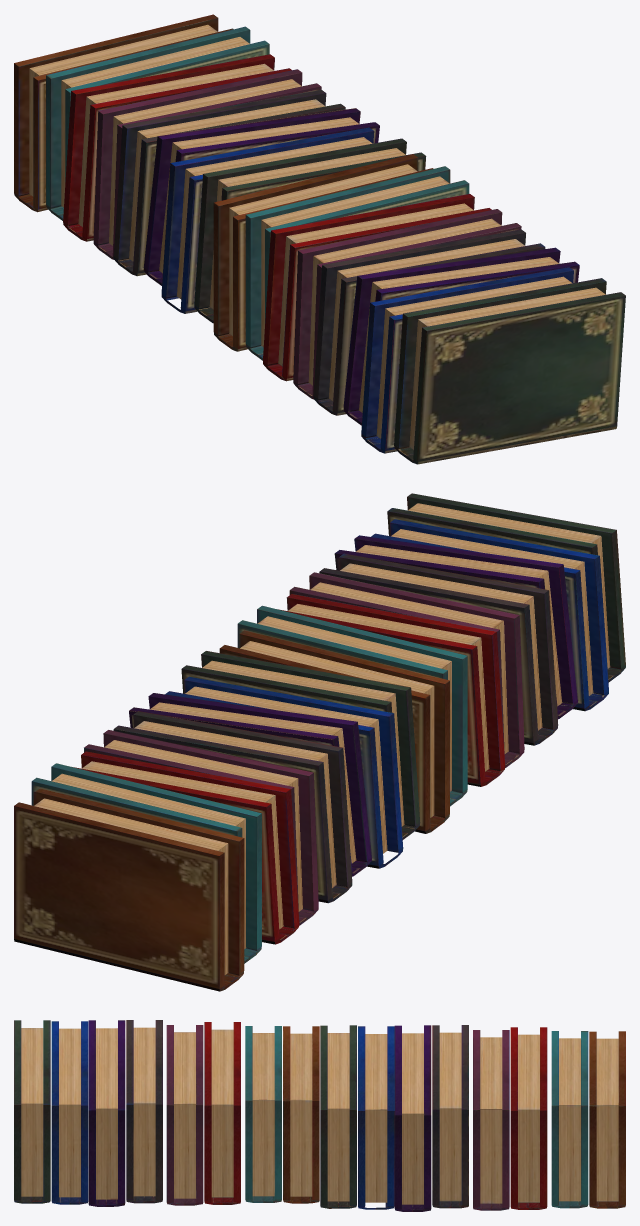
Rendered from skill_books.glb.
3 renders of one model, top to bottom at view 1: azimuth 30°, elevation 25°; view 2: azimuth 150°, elevation 25°; view 3: azimuth 270°, elevation 25°, orthographic. The views are drawn at different scales.
Parts seen in each view (by area): view 1: Box002_ORANGE_0; view 2: Box002_ORANGE_0; view 3: Box002_ORANGE_0.
Boxes of the visible parts, left/top/right/bottom form: Box002_ORANGE_0: left=14, top=14, right=625, bottom=464; Box002_ORANGE_0: left=14, top=493, right=625, bottom=991; Box002_ORANGE_0: left=14, top=1020, right=625, bottom=1211.
Bounding box in the file's own units: 86.11 × 60.15 × 272.
1 material, 1 textured.
